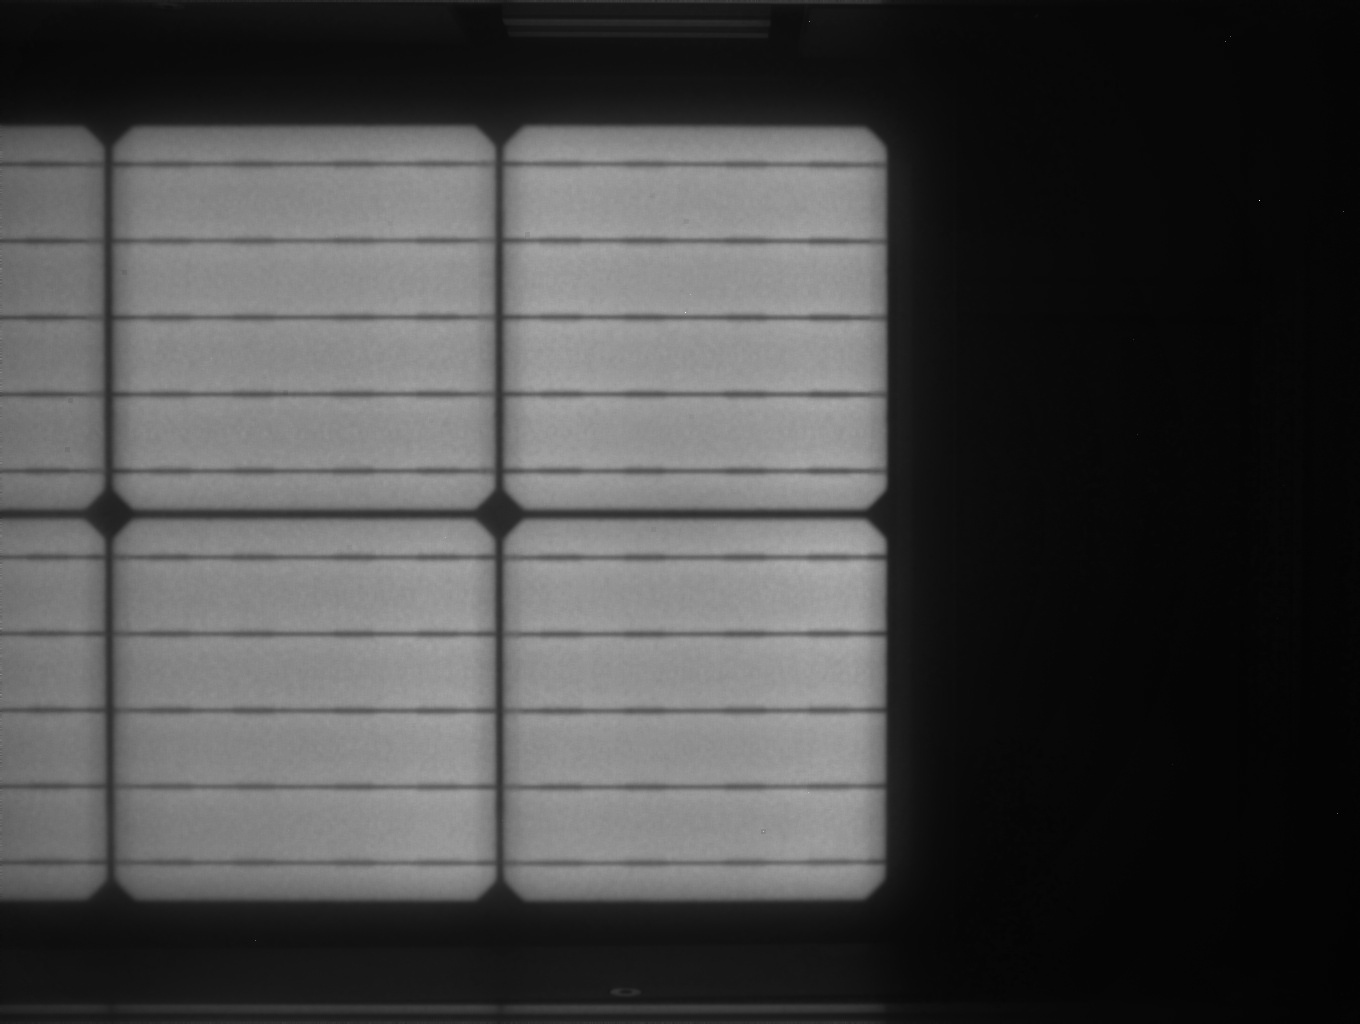loc: (108, 124, 216, 225), (112, 904, 191, 984), (890, 126, 931, 207), (891, 901, 929, 963)
